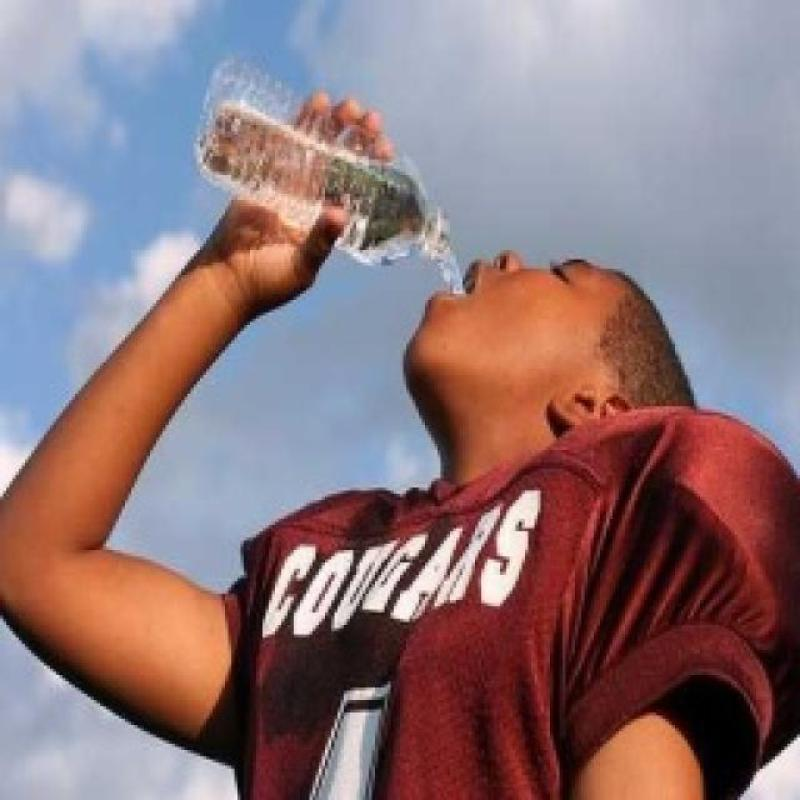botella: (193, 60, 455, 266)
